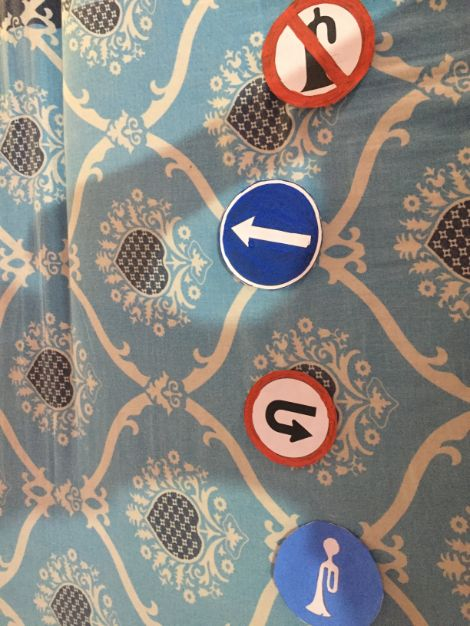blow-horn: (272, 518, 380, 625)
go-stright: (218, 173, 338, 293)
no-horn: (261, 1, 369, 108)
u-turn: (244, 370, 341, 467)
